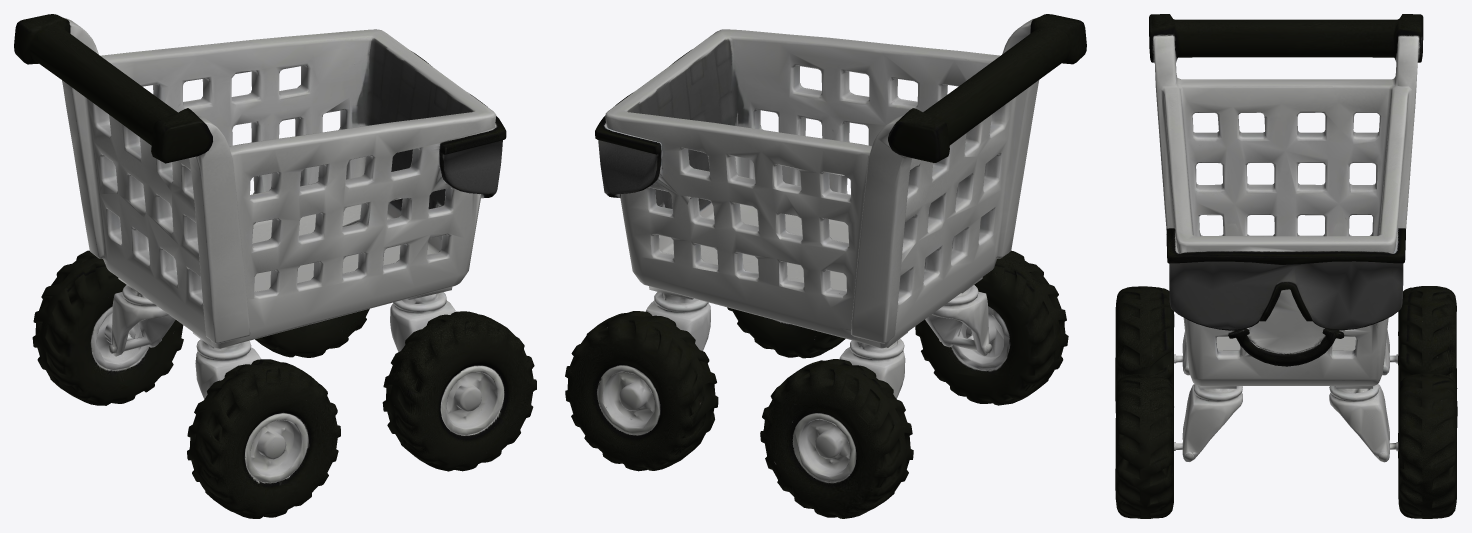
The model's file is cart-rave-base.glb.
3 renders of one model, left to right at view 1: azimuth 30°, elevation 25°; view 2: azimuth 150°, elevation 25°; view 3: azimuth 270°, elevation 25°, orthographic. The views are drawn at different scales.
Visible parts, largest first — view 1: tripo_part_1, tripo_part_0, tripo_part_4, tripo_part_5, tripo_part_2, tripo_part_3; view 2: tripo_part_1, tripo_part_3, tripo_part_5, tripo_part_4, tripo_part_2, tripo_part_0; view 3: tripo_part_1, tripo_part_2, tripo_part_3, tripo_part_0, tripo_part_4, tripo_part_5, tripo_part_6.
Part boxes in pixels (<box>): tripo_part_1: <box>14,14,501,348</box>; tripo_part_0: <box>382,292,536,471</box>; tripo_part_4: <box>187,339,340,518</box>; tripo_part_5: <box>32,250,183,405</box>; tripo_part_2: <box>411,51,506,198</box>; tripo_part_3: <box>255,308,369,357</box>; tripo_part_1: <box>605,14,1086,348</box>; tripo_part_3: <box>565,292,718,471</box>; tripo_part_5: <box>760,339,913,518</box>; tripo_part_4: <box>915,250,1068,405</box>; tripo_part_2: <box>595,50,690,197</box>; tripo_part_0: <box>727,307,845,358</box>; tripo_part_1: <box>1149,14,1423,388</box>; tripo_part_2: <box>1166,228,1405,330</box>; tripo_part_3: <box>1329,373,1457,518</box>; tripo_part_0: <box>1115,374,1242,518</box>; tripo_part_4: <box>1115,286,1189,412</box>; tripo_part_5: <box>1382,286,1457,395</box>; tripo_part_6: <box>1228,328,1344,366</box>.
Size of the model in its own units: 0.9334 by 1 by 0.8309.
Materials: 7 (7 with a texture image).
